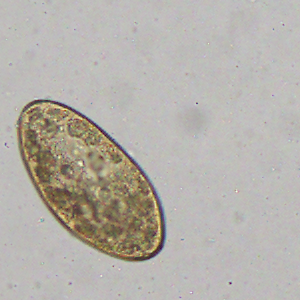Fasciola_hepatica_egg: (15, 97, 166, 262)
